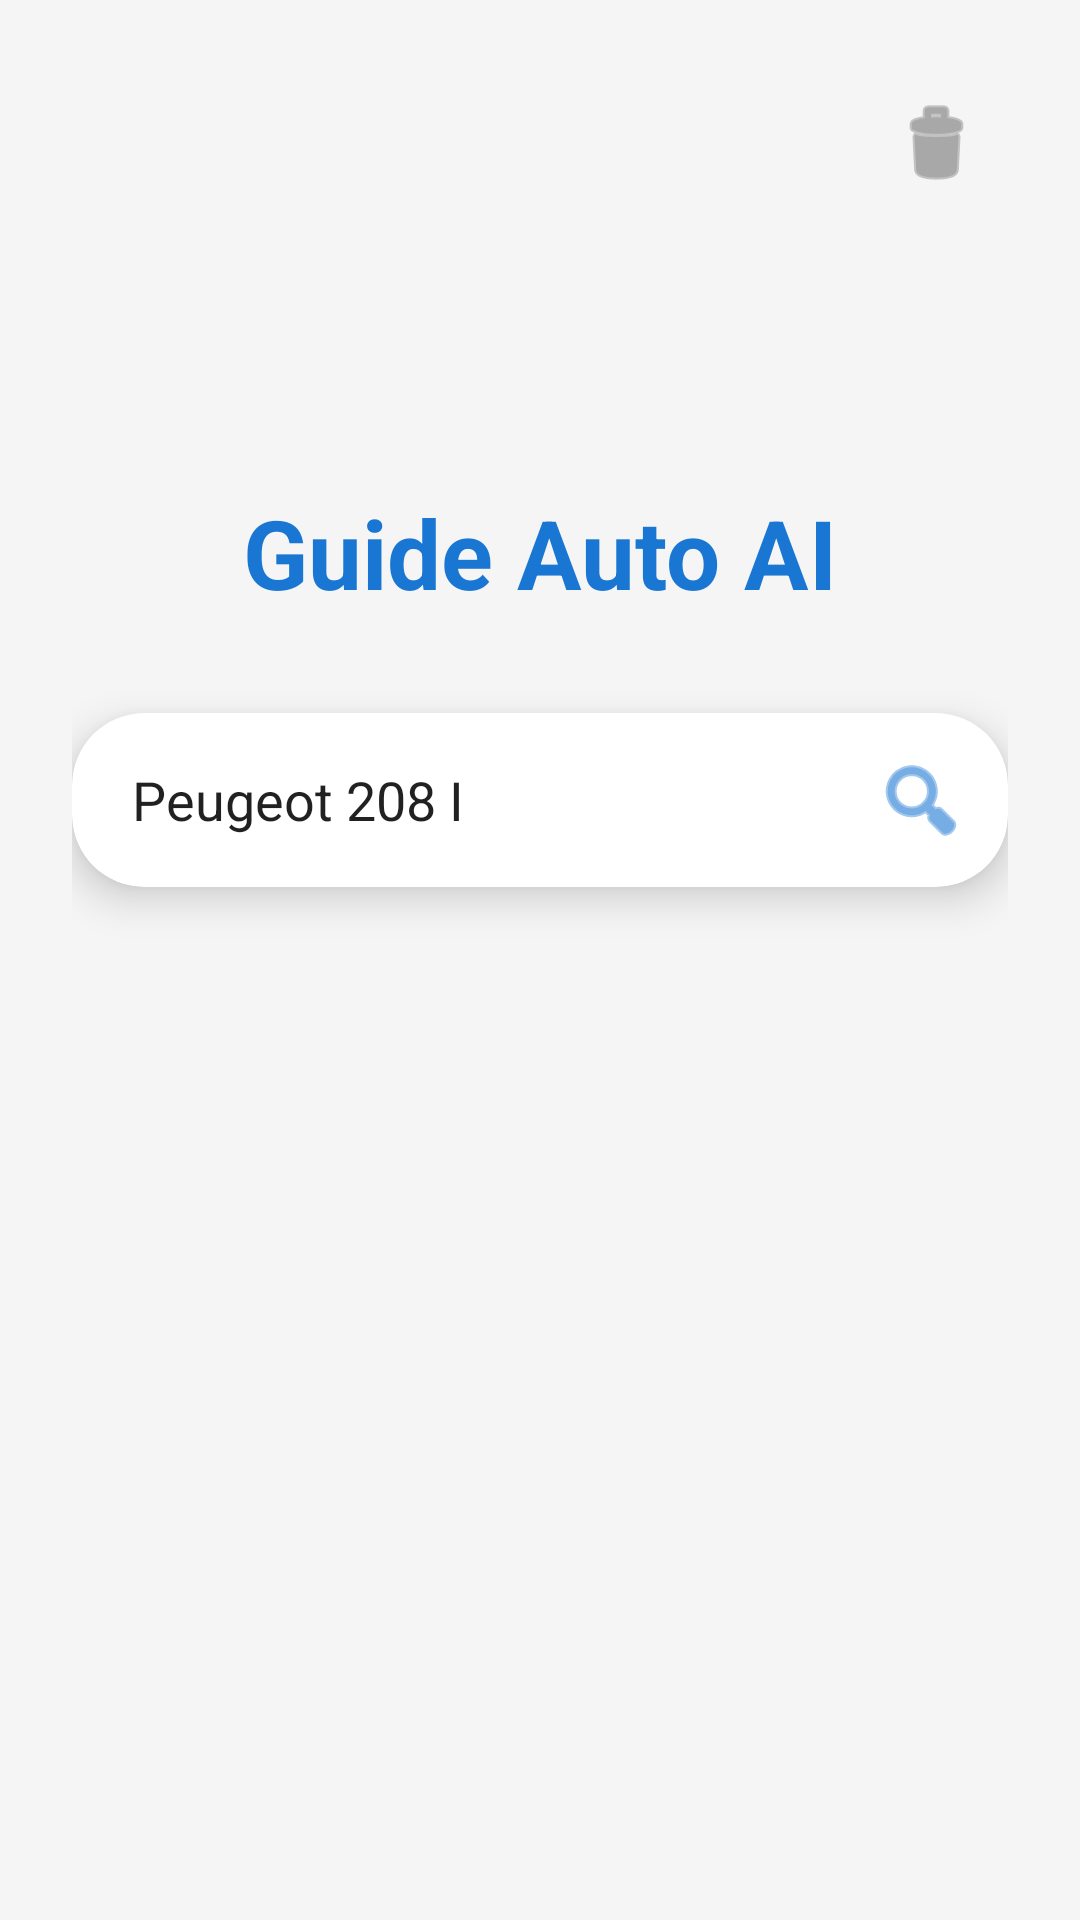

Icon bounding boxes for this 1080 × 1920 phone screenshot, format (x1, y1, x2, y2):
delete: (910, 105, 963, 180)
search: (885, 765, 957, 836)
